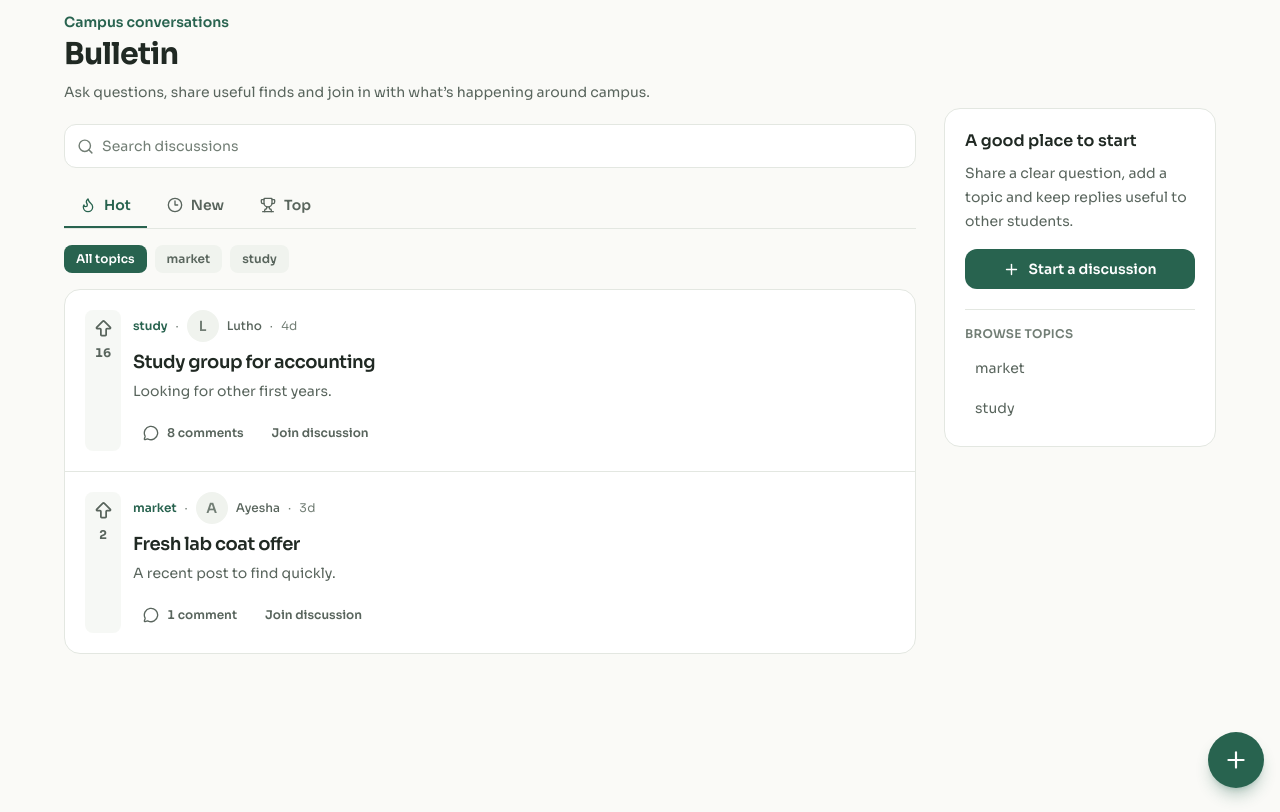
it: Reddit-style bulletin feed › uses the existing like service as an upvote and updates the displayed score
Click the button named "Upvote Fresh lab coat offer".
click(103, 510)  # box [88,496,118,525]
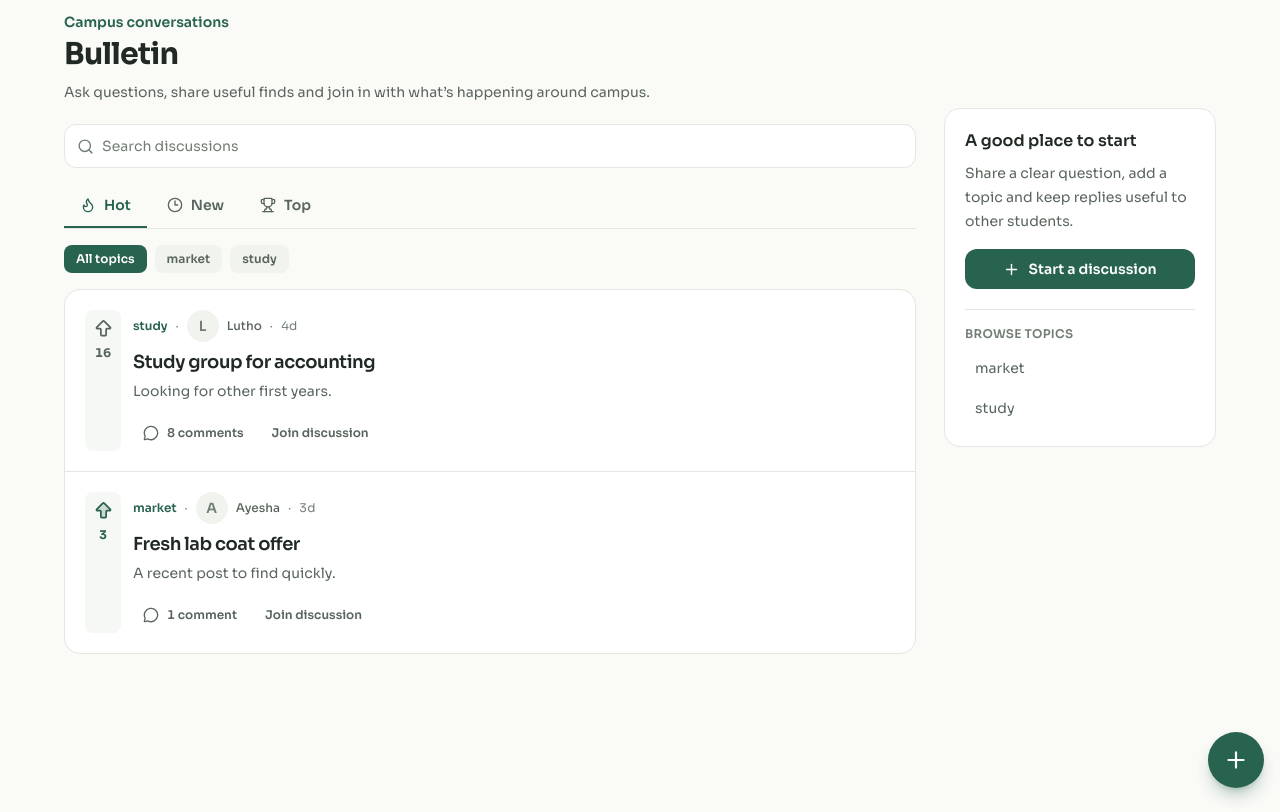
Expected: the text "3" is shown, [99,527,107,543]
